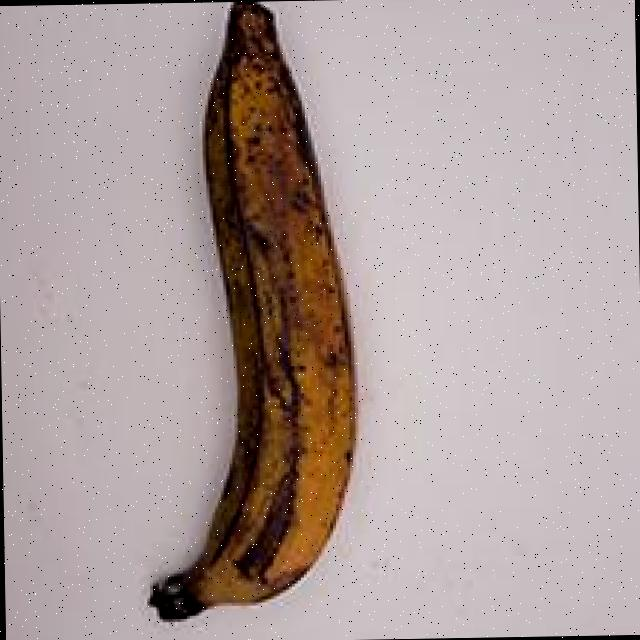Overripe: (91, 0, 392, 632)
